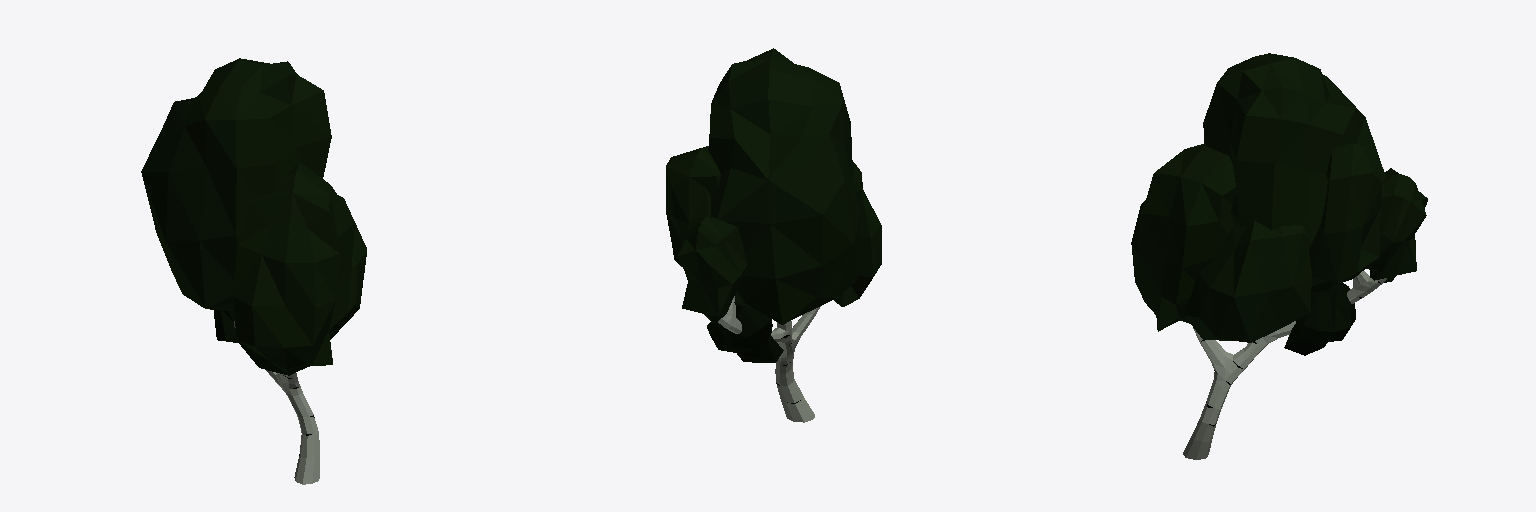
Rendered from BirchTree_1.obj.
The picture shows the model from 3 angles: view 1: azimuth 30°, elevation 25°; view 2: azimuth 150°, elevation 25°; view 3: azimuth 270°, elevation 25°; orthographic projection.
Visible parts, largest first — view 1: BirchTree_1_Cube; view 2: BirchTree_1_Cube; view 3: BirchTree_1_Cube.
Part boxes in pixels (bbox=[...]): BirchTree_1_Cube: bbox=[141, 58, 366, 484]; BirchTree_1_Cube: bbox=[666, 48, 881, 422]; BirchTree_1_Cube: bbox=[1131, 53, 1427, 459].
Bounding box in the file's own units: 1.7 × 3.57 × 2.48.